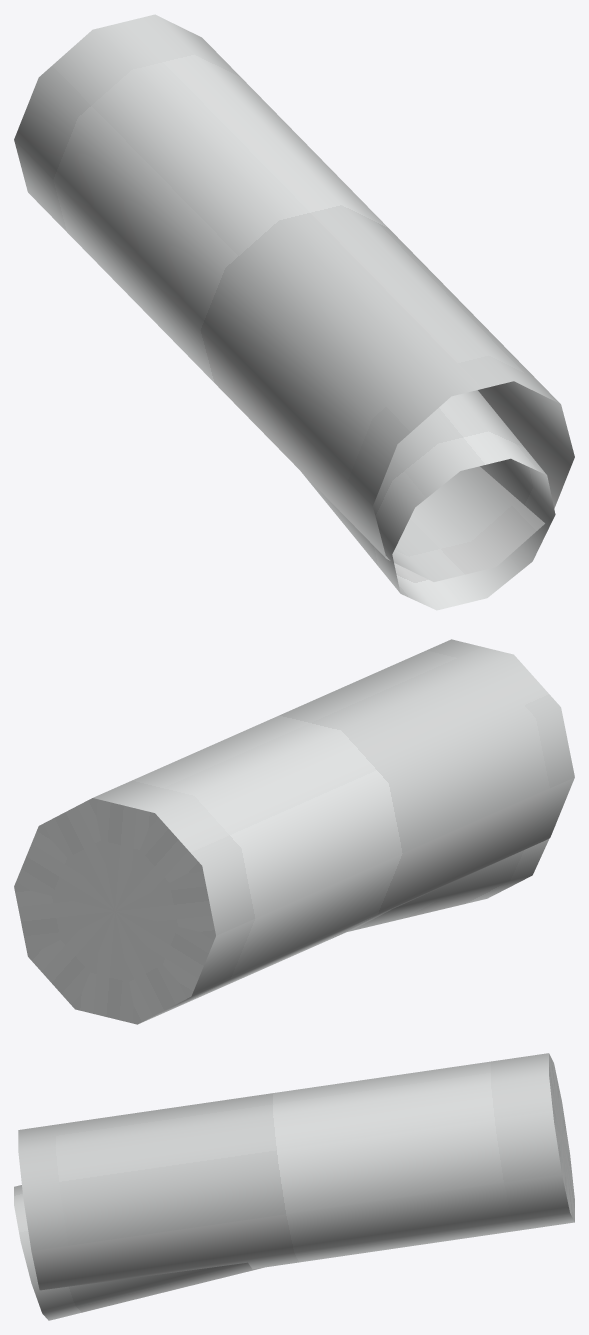
Rendered from trusssignalarm_sloped12_c20.obj.
3 renders of one model, top to bottom at view 1: azimuth 30°, elevation 25°; view 2: azimuth 150°, elevation 25°; view 3: azimuth 270°, elevation 25°, orthographic. The views are drawn at different scales.
Visible parts, largest first — view 1: trusssignalarm_sloped12_c20; view 2: trusssignalarm_sloped12_c20; view 3: trusssignalarm_sloped12_c20.
Part boxes in pixels (x1,y1,x2,y2): trusssignalarm_sloped12_c20: [14, 14, 574, 610]; trusssignalarm_sloped12_c20: [14, 639, 574, 1024]; trusssignalarm_sloped12_c20: [14, 1053, 574, 1320].
Size of the model in its own units: 0.325 by 0.5142 by 1.06.
